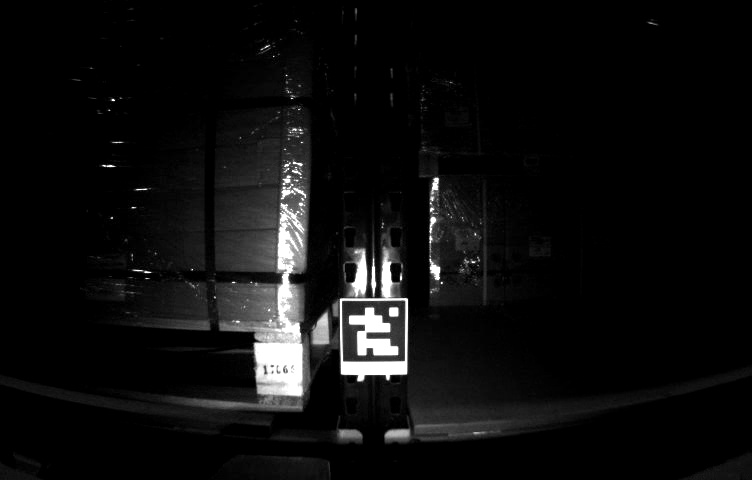True Barcode: (79, 254, 129, 302)
